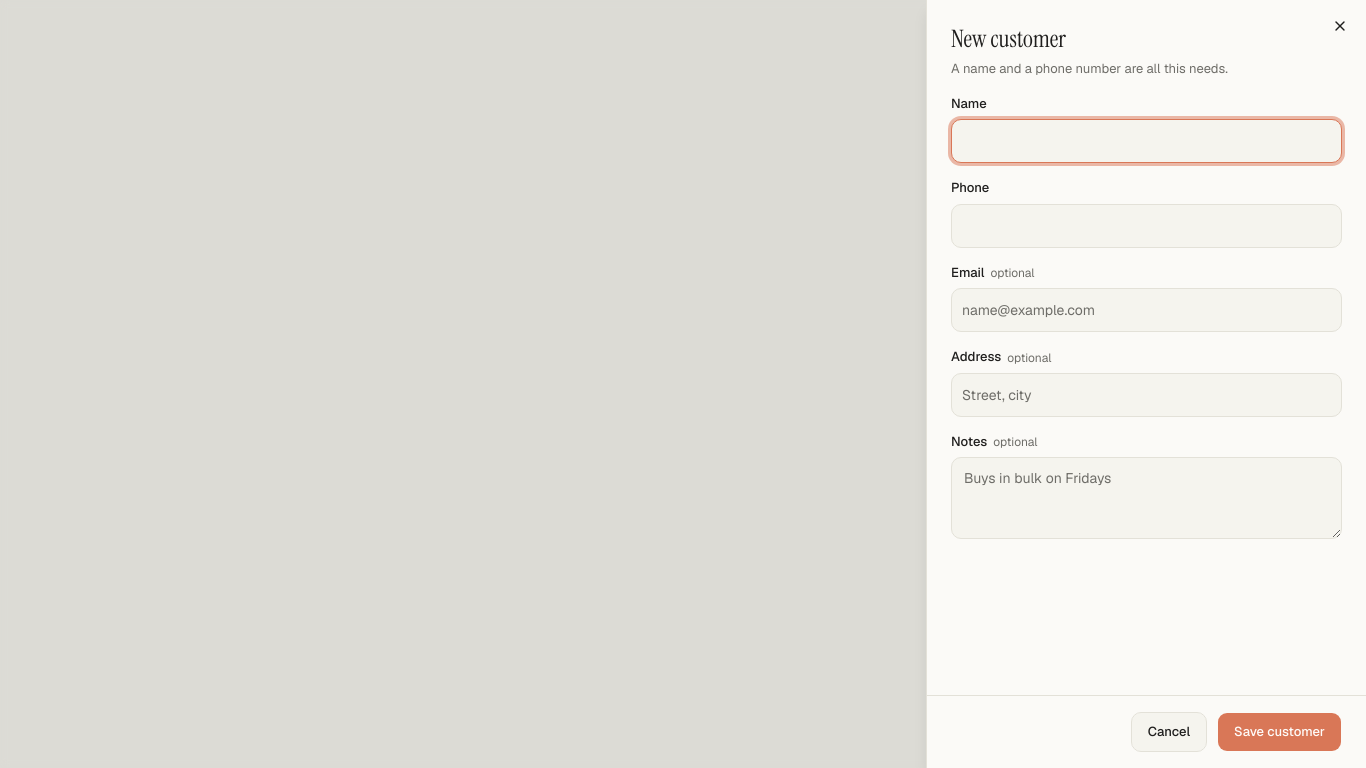
Scenario: CustomerFormSheet — creating › puts a DUPLICATE_PHONE conflict on the phone field, not in a banner
This screenshot has width=1366, height=768.
Type "Faisal Traders" into the field labelled "Name" at (1146, 141), box [951,119,1342,163]
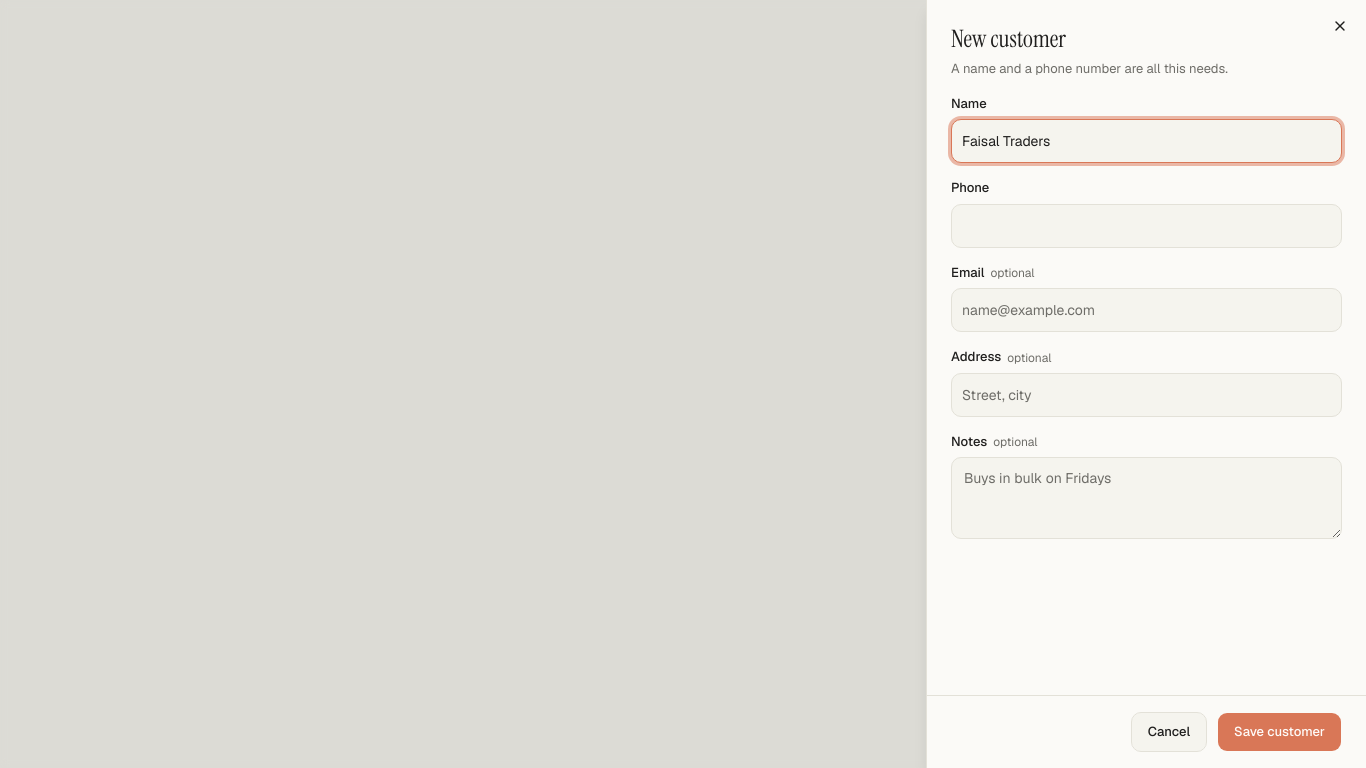
Type "0712445900" into the field labelled "Phone" at (1146, 226), box [951,204,1342,248]
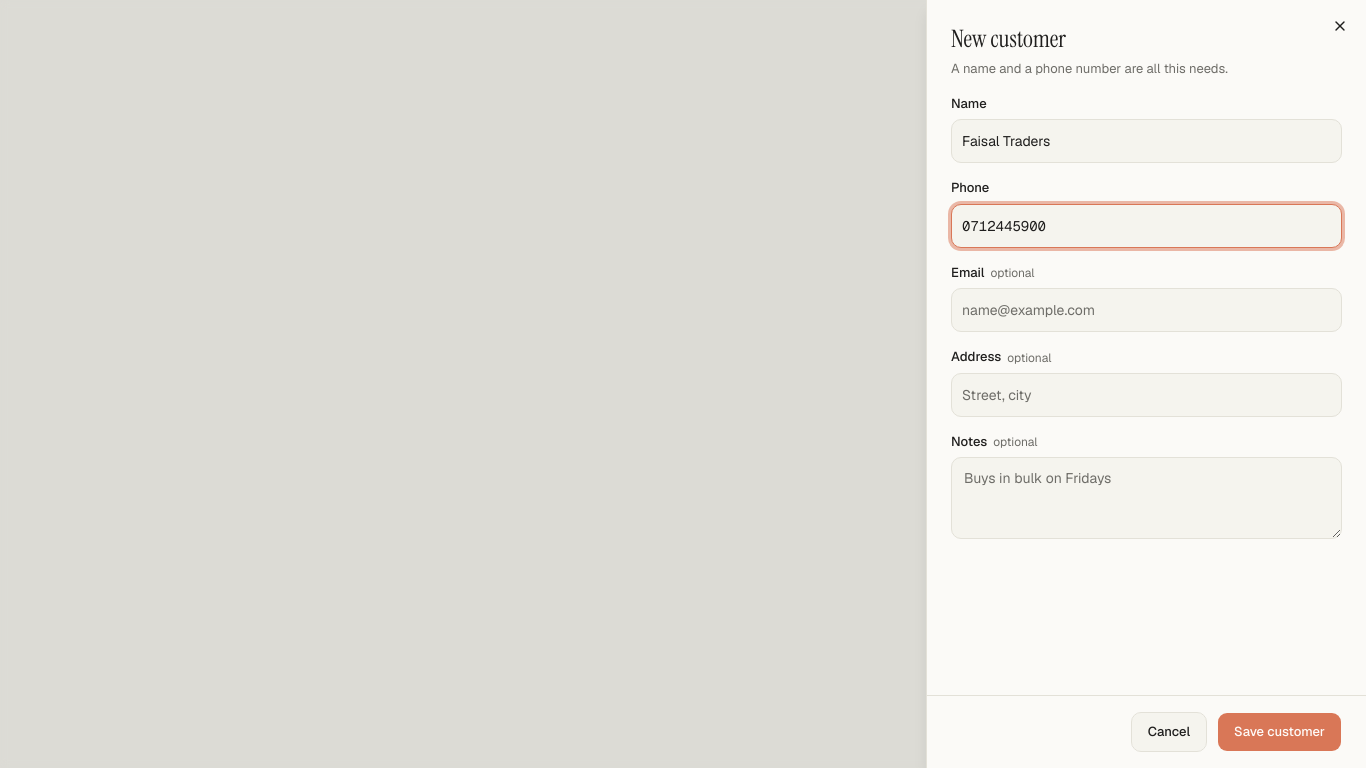
Click the button "Save customer" at (1280, 732), box [1217,712,1342,752]
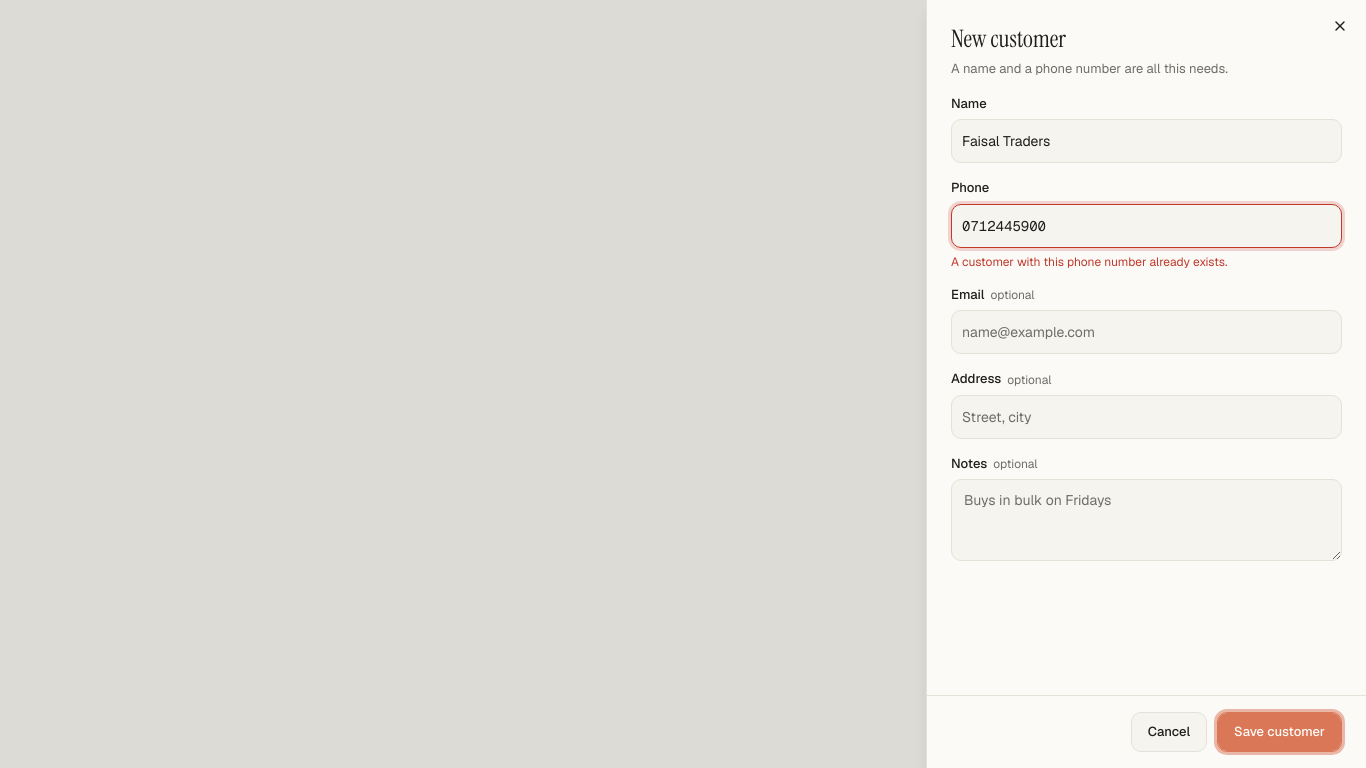
Result: the text "A customer with this phone number already exists." is shown at [951,254,1227,270]
